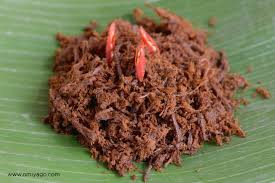rendang: (42, 4, 258, 181)
